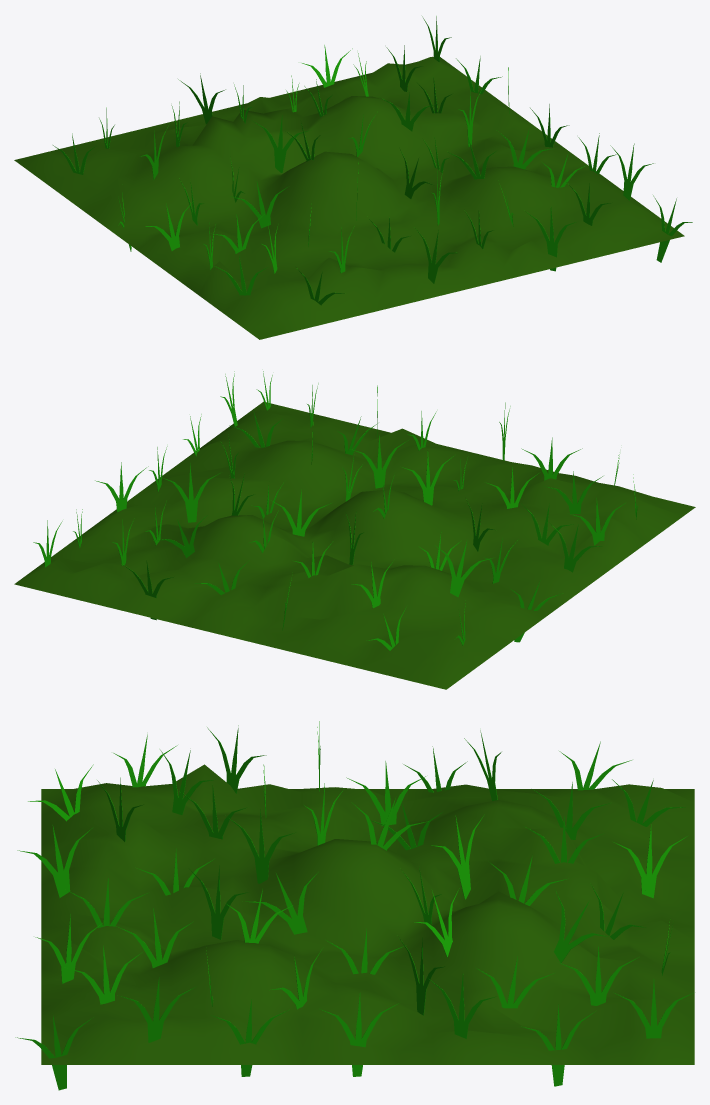
The model's file is NONwalkingTile.fbx.
3 views of the same model, one above another, from view 1: azimuth 30°, elevation 25°; view 2: azimuth 150°, elevation 25°; view 3: azimuth 270°, elevation 25° (orthographic). The views are drawn at different scales.
Parts seen in each view (by area): view 1: nonwalkingFloor; view 2: nonwalkingFloor; view 3: nonwalkingFloor.
Boxes of the visible parts, left/top/right/bottom form: nonwalkingFloor: left=14, top=56, right=684, bottom=339; nonwalkingFloor: left=14, top=401, right=695, bottom=689; nonwalkingFloor: left=41, top=764, right=694, bottom=1064.
Size of the model in its own units: 24.71 by 5.78 by 24.95.
